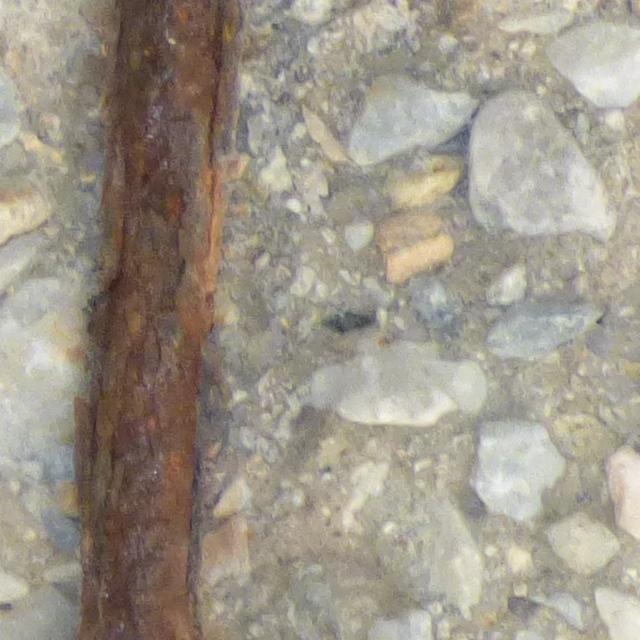Rust: (75, 3, 252, 637)
